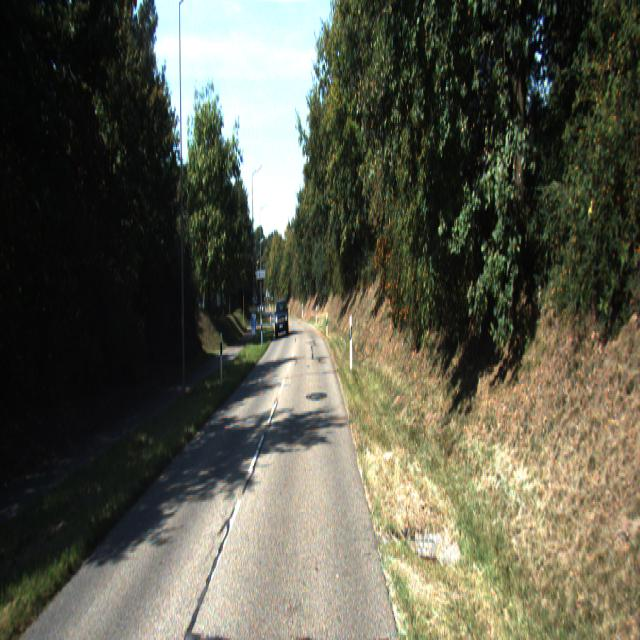Car: (274, 298, 289, 344)
